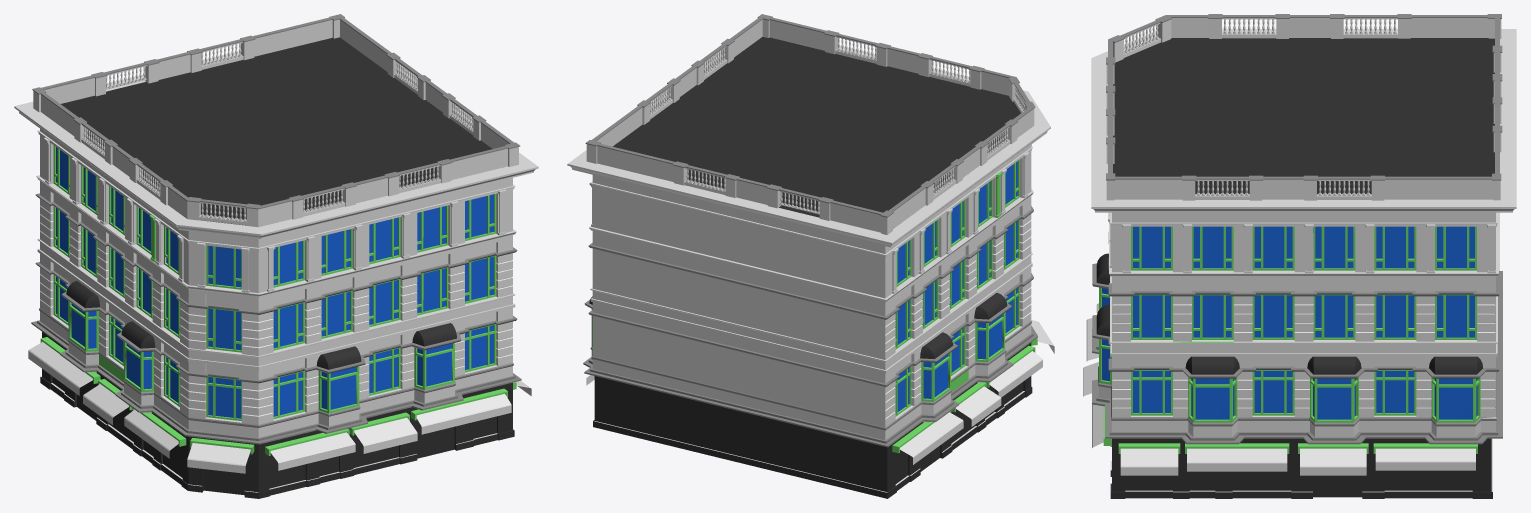
Rendered from Mesh_Building_03.fbx.
3 views of the same model, side by side, from view 1: azimuth 30°, elevation 25°; view 2: azimuth 150°, elevation 25°; view 3: azimuth 270°, elevation 25° (orthographic). The views are drawn at different scales.
Parts seen in each view (by area): view 1: Cube.071; view 2: Cube.071; view 3: Cube.071.
Boxes of the visible parts, x1,y1,x2,y2 form: Cube.071: [14, 14, 538, 498]; Cube.071: [567, 14, 1054, 498]; Cube.071: [1083, 14, 1516, 498].
Bounding box in the file's own units: 2151 × 1745 × 2133.
